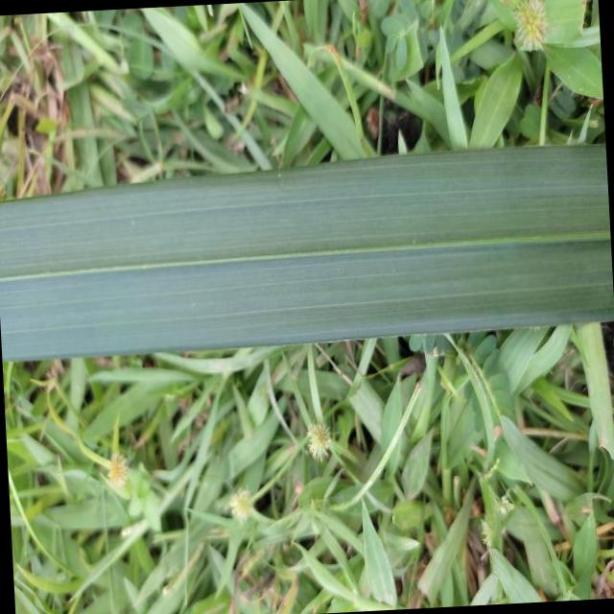Healthy: (0, 142, 614, 368)
